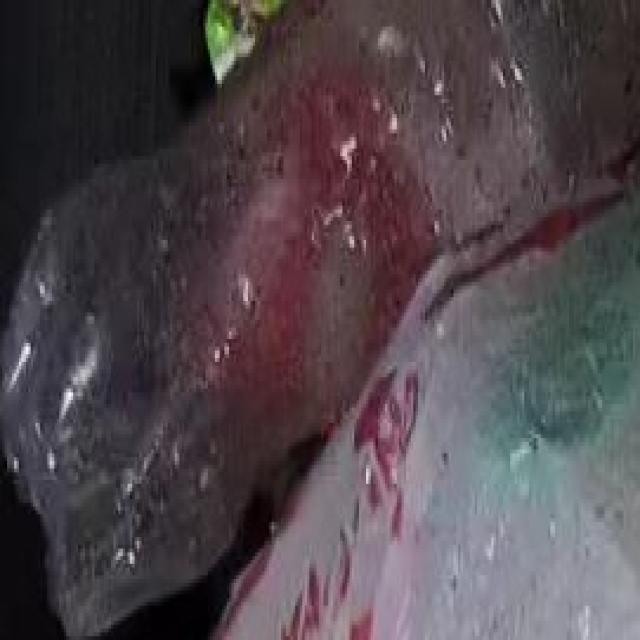plasticbottle: (0, 91, 631, 562)
